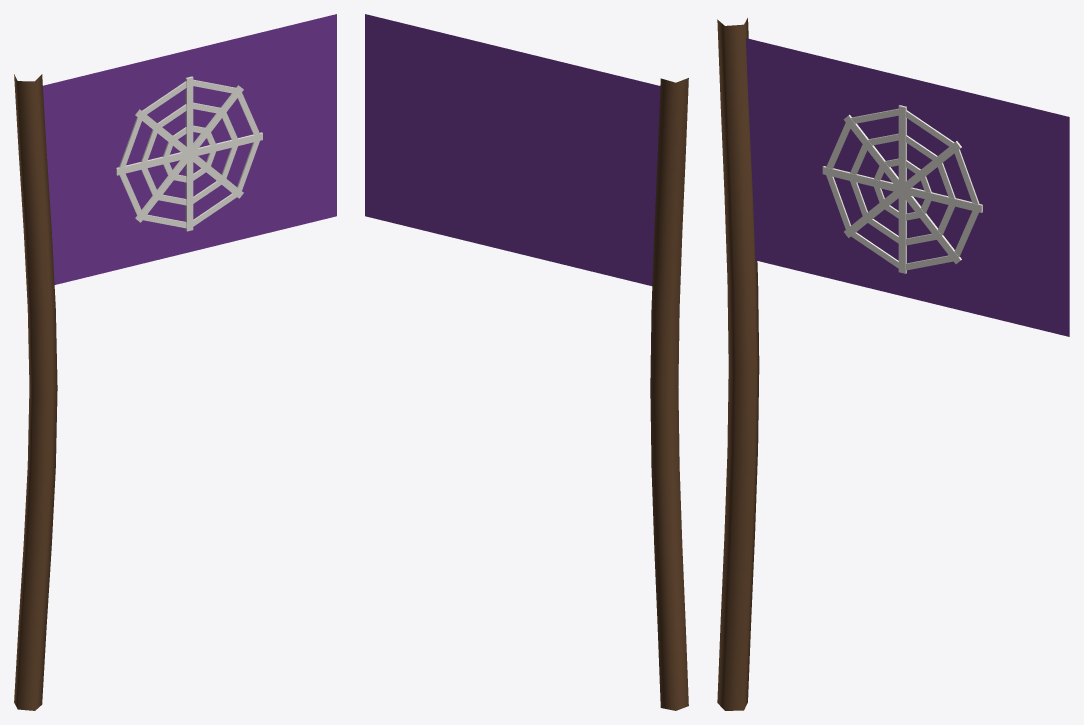
File: flag_tisseuses.glb
The picture shows the model from 3 angles, left to right: view 1: azimuth 30°, elevation 25°; view 2: azimuth 150°, elevation 25°; view 3: azimuth 330°, elevation 25°; orthographic projection. The views are drawn at different scales.
Visible parts, largest first — view 1: flag_tisseuses, group_2; view 2: flag_tisseuses; view 3: flag_tisseuses, group_2.
Part boxes in pixels (x1,y1,x2,y2): flag_tisseuses: [14, 14, 336, 710]; group_2: [116, 76, 262, 231]; flag_tisseuses: [365, 14, 688, 710]; flag_tisseuses: [717, 18, 1069, 710]; group_2: [822, 105, 982, 273].
Bounding box in the file's own units: 7.49 × 14.03 × 0.6427.
